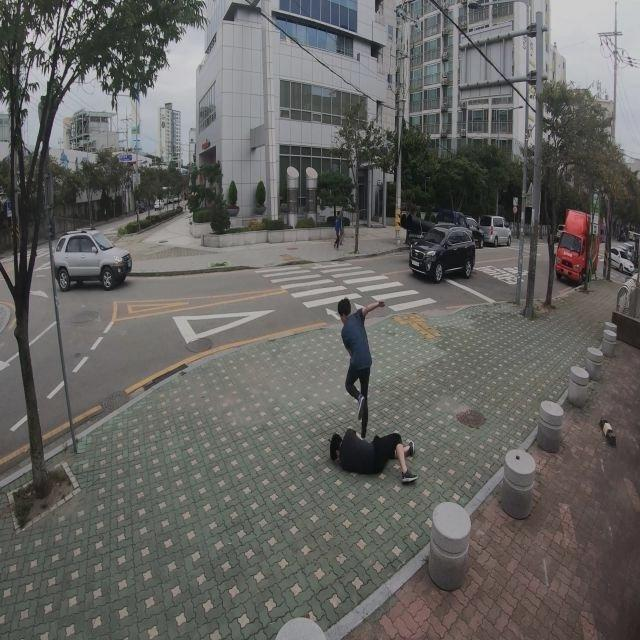fight: (327, 295, 417, 487)
